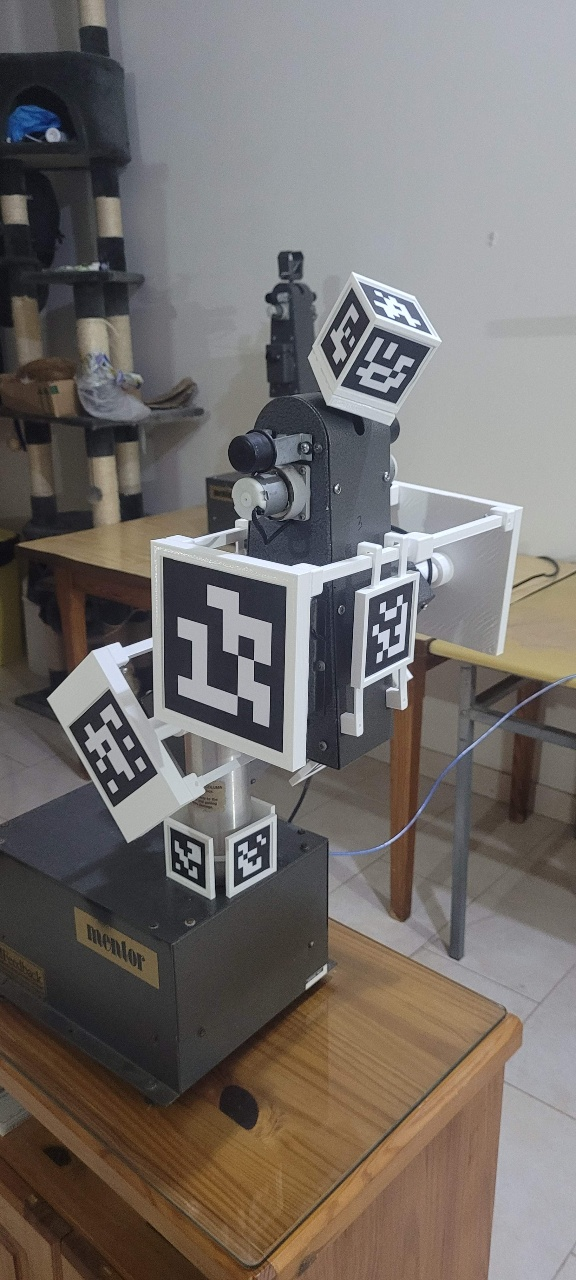Robot: (57, 277, 469, 930)
